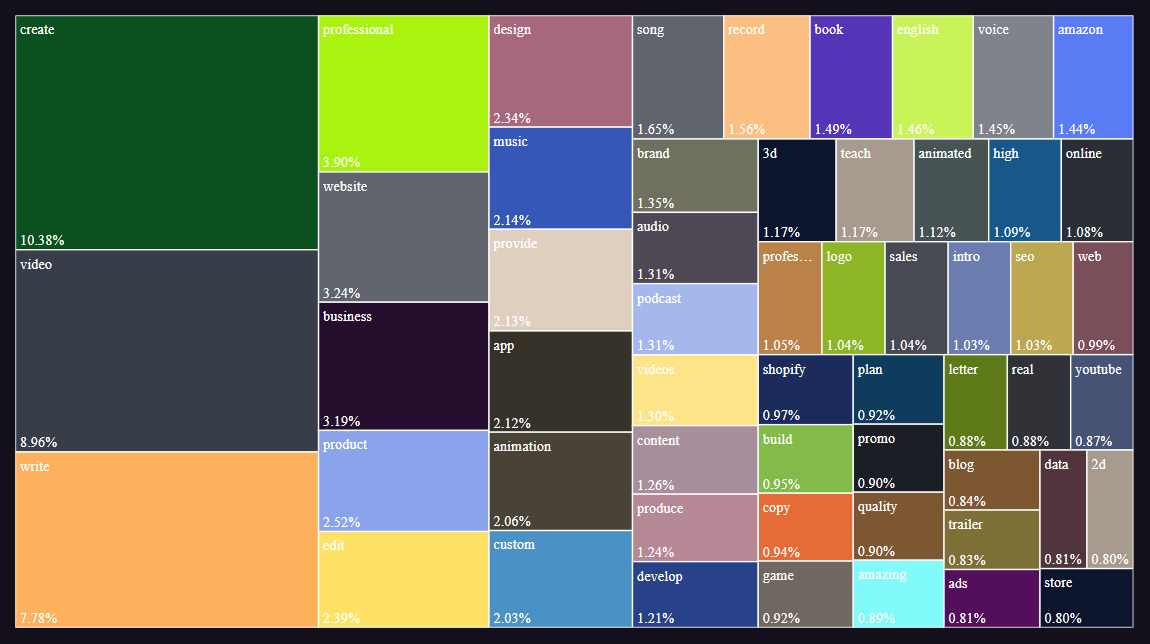

The page's visual inventory and layout, read from the dashboard file:
{"tool":"powerbi","page":{"name":"Page 2","canvas":[1280,720],"ordinal":1},"visuals":[{"type":"treemap","fields":{"Values":["Sum(export_fiverr_word_count.Freq)"],"Group":["export_fiverr_word_count.fiverr_words_cleaned"]},"box":[13.3,15.6,1252.2,690],"z":0}]}

Visuals, with their boxes in screenshot pixels (x1, y1, x2, y2), scaled from the page's 1280x720 canvas onto the 1150x644 screenshot:
treemap - Sum(export_fiverr_word_count.Freq) x export_fiverr_word_count.fiverr_words_cleaned: 12 14 1137 631
